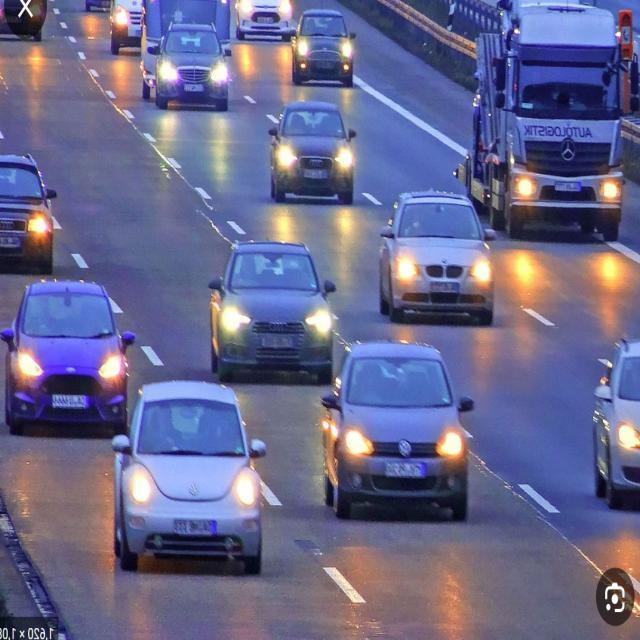headlights: (331, 414, 474, 486), (114, 461, 277, 524), (11, 347, 134, 395), (208, 302, 346, 344), (506, 171, 626, 215), (388, 251, 498, 294), (148, 60, 235, 95), (267, 144, 359, 174), (289, 34, 358, 62)
